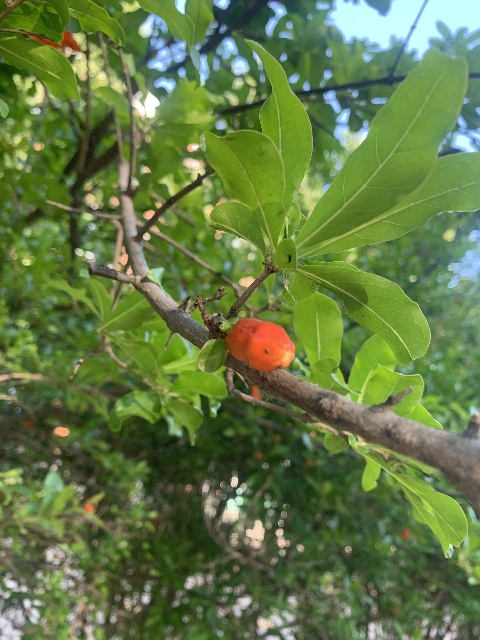bud: (226, 317, 295, 373)
